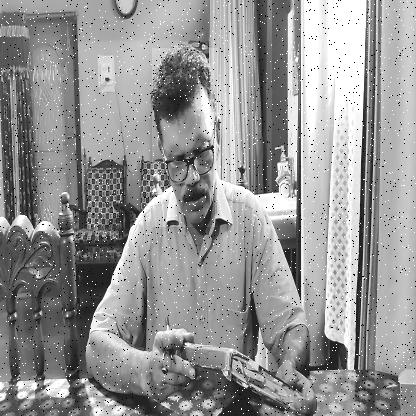Normal: (152, 48, 218, 227)
